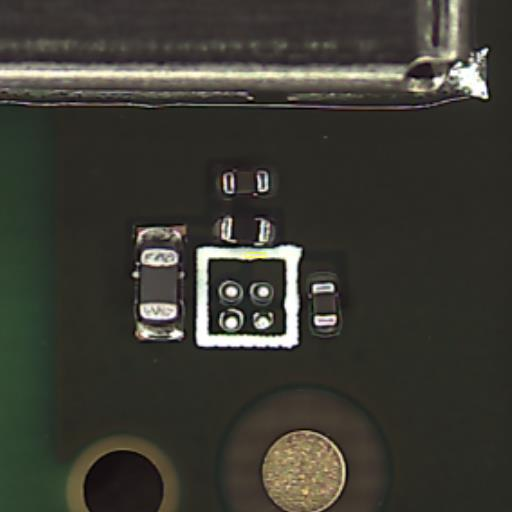bottom_layer: (135, 225, 186, 340), (308, 271, 342, 337), (212, 216, 277, 247), (216, 170, 276, 197)
top_layer: (140, 249, 179, 323), (310, 282, 337, 332), (222, 216, 270, 244), (222, 170, 270, 191)
